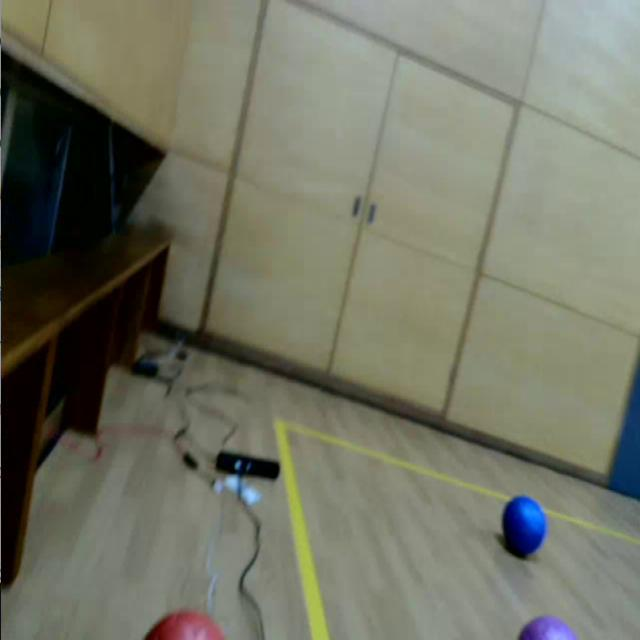blue_ball: (501, 494, 547, 560)
purple_ball: (517, 614, 578, 640)
red_ball: (142, 609, 229, 640)
